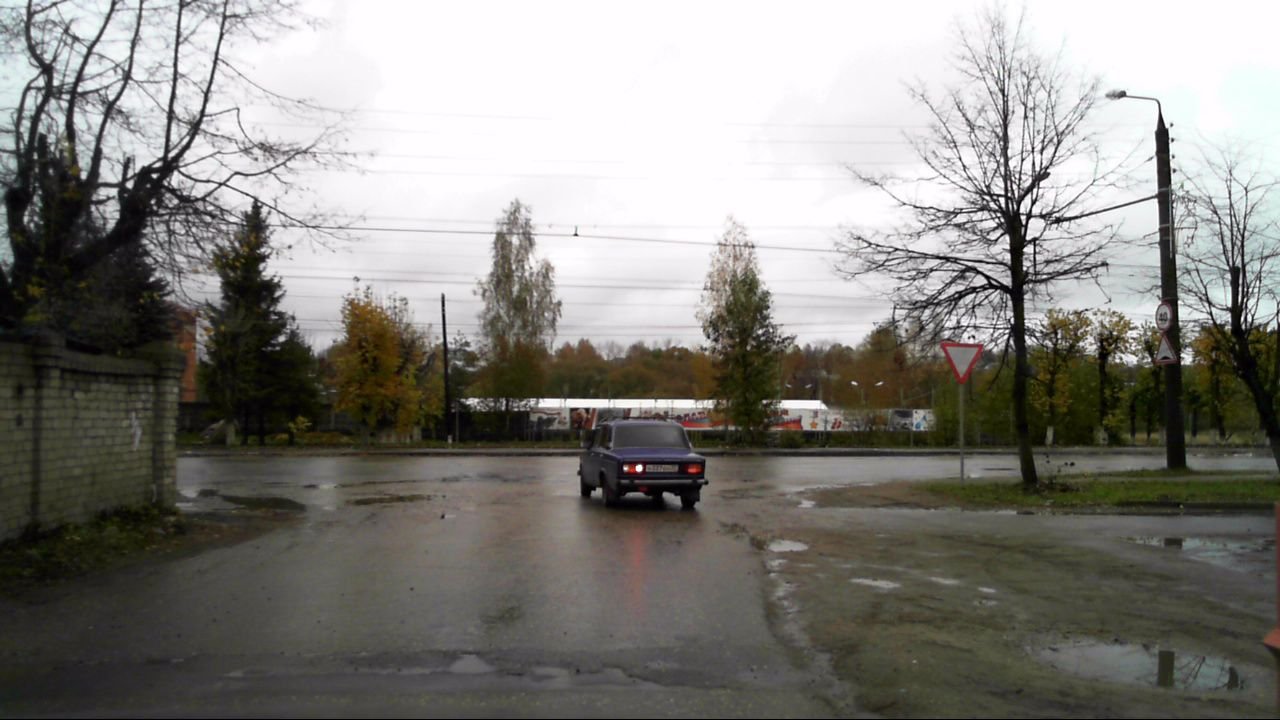speed_warning_40: (1153, 303, 1172, 331)
